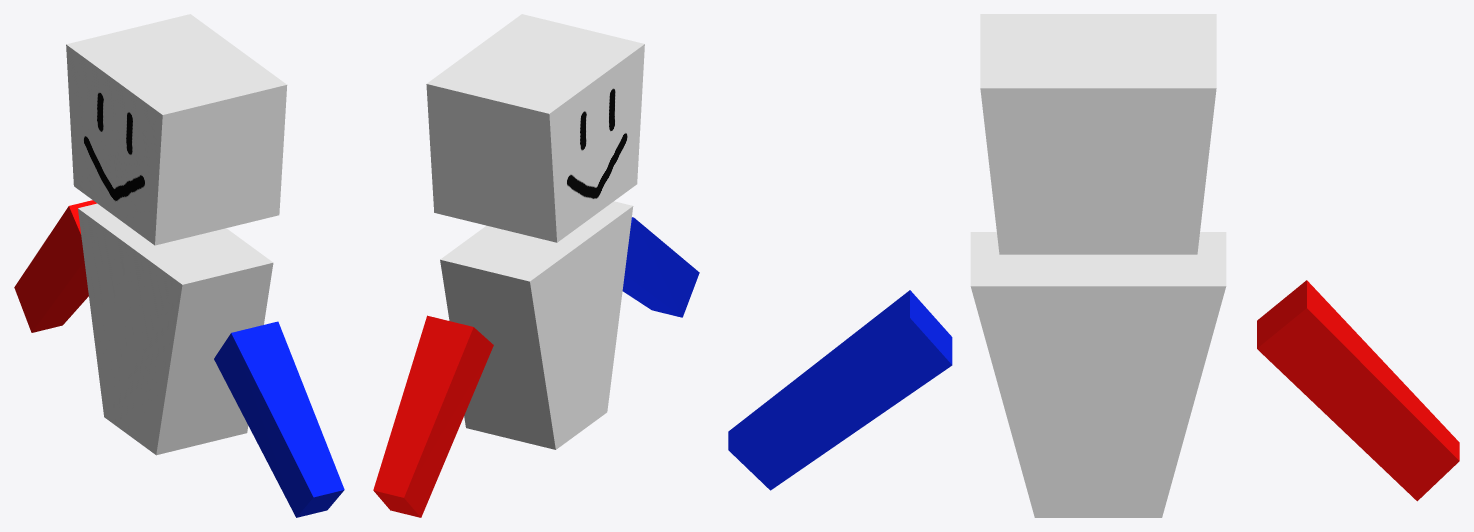
The model's file is player.obj.
3 renders of one model, left to right at view 1: azimuth 30°, elevation 25°; view 2: azimuth 150°, elevation 25°; view 3: azimuth 270°, elevation 25°, orthographic. The views are drawn at different scales.
Parts seen in each view (by area): view 1: player; view 2: player; view 3: player.
Boxes of the visible parts, left/top/right/bottom form: player: left=14, top=14, right=344, bottom=517; player: left=373, top=14, right=699, bottom=517; player: left=728, top=14, right=1459, bottom=517.
Size of the model in its own units: 1.37 by 3.8 by 5.72.
Materials: 1 (1 with a texture image).
